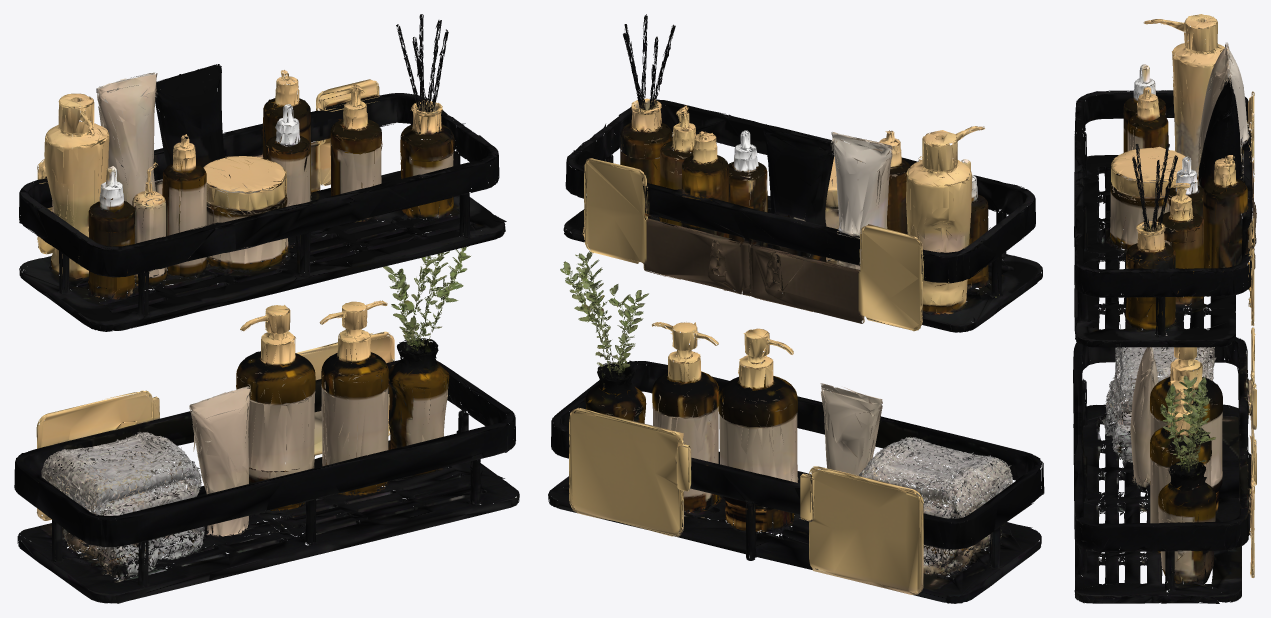
File: mk2-wall-shelf-organiser.glb
3 renders of one model, left to right at view 1: azimuth 30°, elevation 25°; view 2: azimuth 150°, elevation 25°; view 3: azimuth 270°, elevation 25°, orthographic. The views are drawn at different scales.
Parts seen in each view (by area): view 1: mesh_node; view 2: mesh_node; view 3: mesh_node.
Boxes of the visible parts, bbox=[...] form: mesh_node: bbox=[14, 14, 519, 603]; mesh_node: bbox=[548, 14, 1044, 603]; mesh_node: bbox=[1073, 14, 1256, 603].
Bounding box in the file's own units: 1.85 × 1.92 × 0.7415.
1 material, 1 textured.
